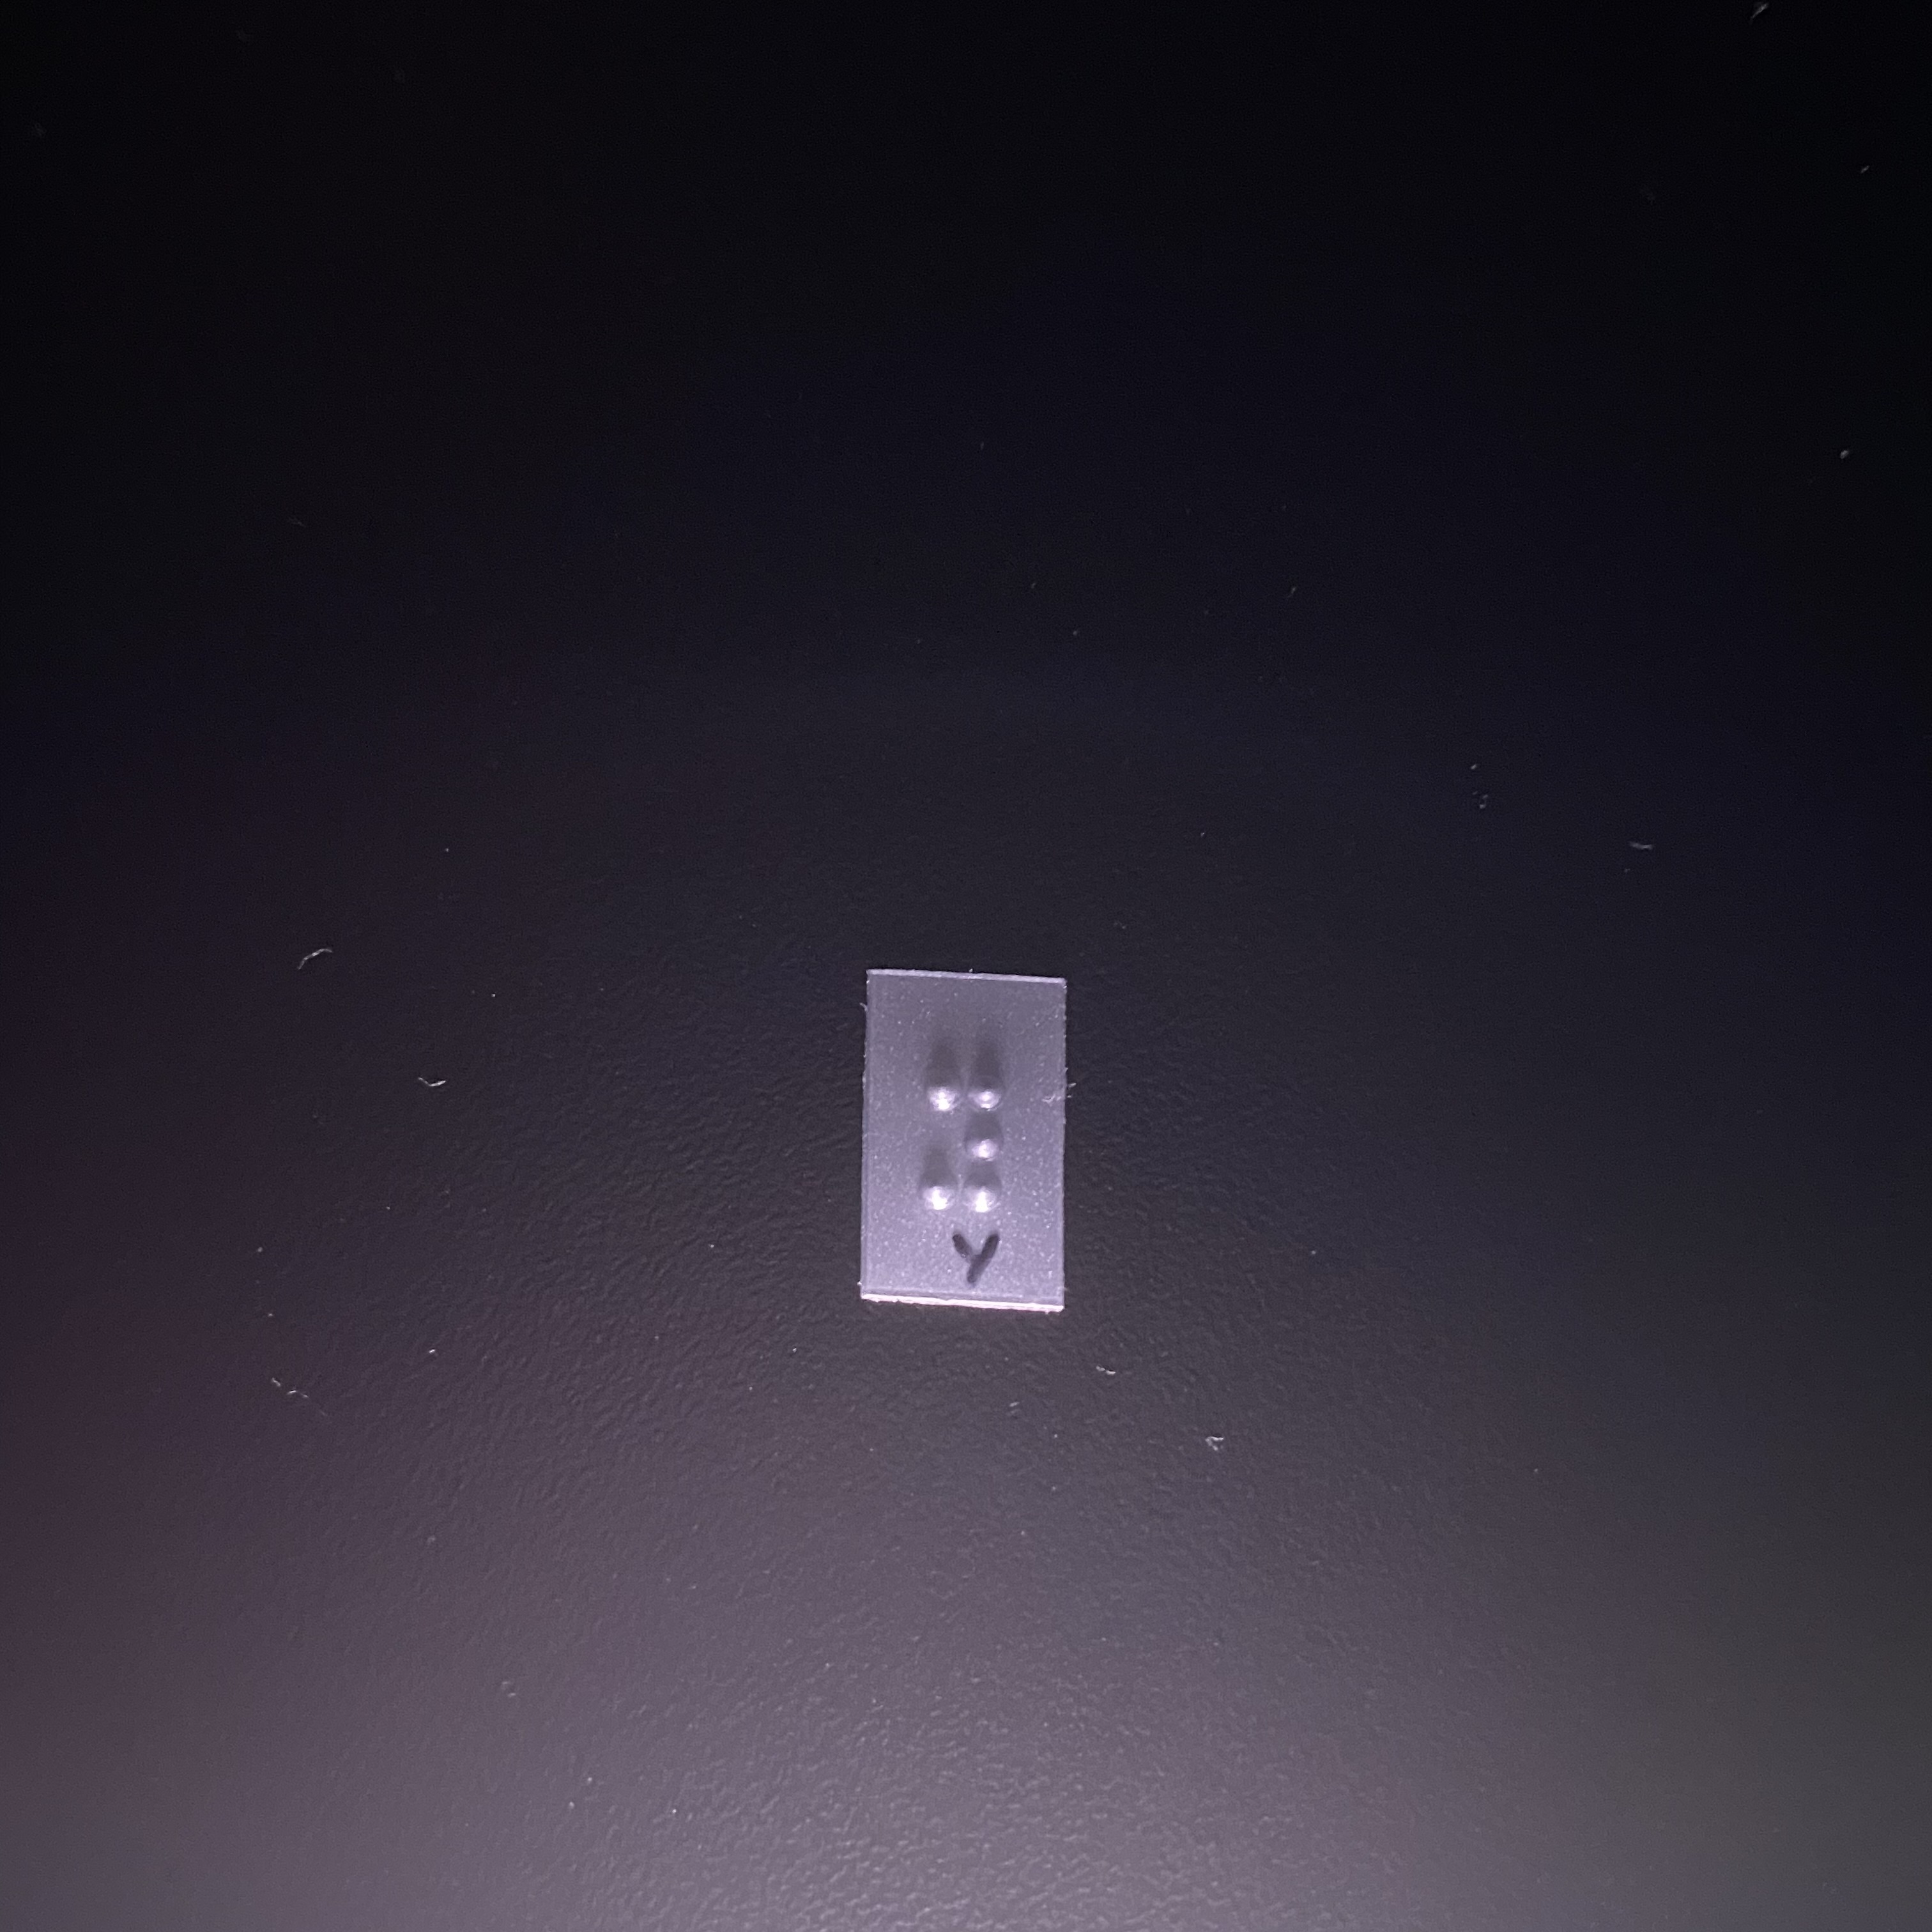y: (915, 1044, 1020, 1214)
